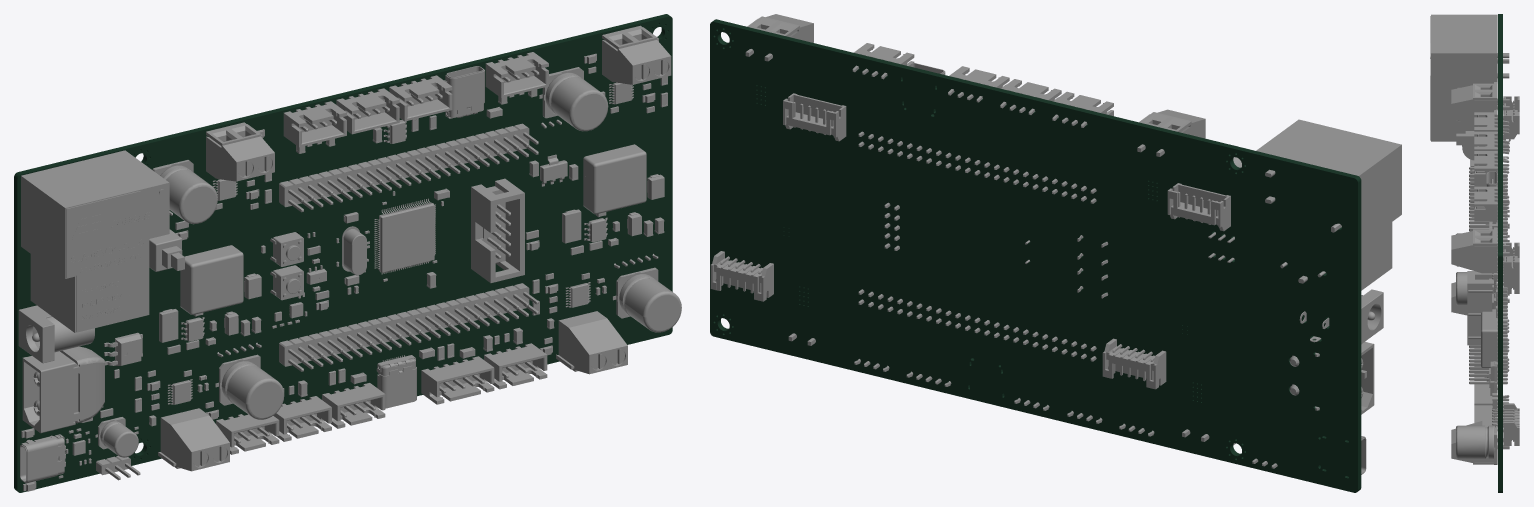
File: int-brain-pcb.dae
3 renders of one model, left to right at view 1: azimuth 30°, elevation 25°; view 2: azimuth 150°, elevation 25°; view 3: azimuth 270°, elevation 25°, orthographic. The views are drawn at different scales.
Visible parts, largest first — view 1: empty_368, empty_323, empty_73, empty_32, empty_339, empty_46, empty_334, empty_201, empty_292, empty_7, empty_235, empty_9 (+24 smaller); view 2: empty_368, empty_323, empty_365, empty_367, empty_366, empty_364, empty_32, empty_73, empty_243, empty_9, empty_339, empty_190 (+4 smaller); view 3: empty_323, empty_368, empty_9, empty_46, empty_243, empty_303, empty_32, empty_75, empty_73, empty_201, empty_364, empty_26 (+12 smaller).
Part boxes in pixels (x1,y1,x2,y2): empty_368: [14, 14, 672, 492]; empty_323: [21, 150, 169, 332]; empty_73: [279, 123, 538, 212]; empty_32: [279, 283, 538, 371]; empty_339: [22, 346, 104, 433]; empty_46: [471, 178, 524, 282]; empty_334: [374, 198, 435, 274]; empty_201: [583, 144, 646, 214]; empty_292: [180, 245, 243, 314]; empty_7: [556, 311, 627, 374]; empty_235: [158, 408, 229, 471]; empty_9: [602, 25, 671, 84]; empty_368: [710, 19, 1361, 492]; empty_323: [1256, 119, 1401, 290]; empty_365: [783, 93, 846, 141]; empty_367: [1167, 183, 1230, 231]; empty_366: [1102, 338, 1166, 389]; empty_364: [710, 251, 773, 301]; empty_32: [858, 289, 1096, 361]; empty_73: [858, 131, 1096, 203]; empty_243: [1137, 109, 1205, 156]; empty_9: [745, 14, 813, 61]; empty_339: [1289, 342, 1374, 414]; empty_190: [1361, 289, 1383, 343]; empty_323: [1430, 14, 1509, 141]; empty_368: [1498, 14, 1502, 492]; empty_9: [1451, 229, 1509, 273]; empty_46: [1467, 271, 1507, 345]; empty_243: [1451, 83, 1509, 124]; empty_303: [1456, 422, 1497, 464]; empty_32: [1469, 287, 1507, 387]; empty_75: [1474, 186, 1509, 221]; empty_73: [1469, 167, 1507, 262]; empty_201: [1481, 311, 1497, 367]; empty_364: [1492, 403, 1519, 445]; empty_26: [1474, 151, 1509, 186].
Size of the model in its own units: 170 by 78.97 by 26.65.
